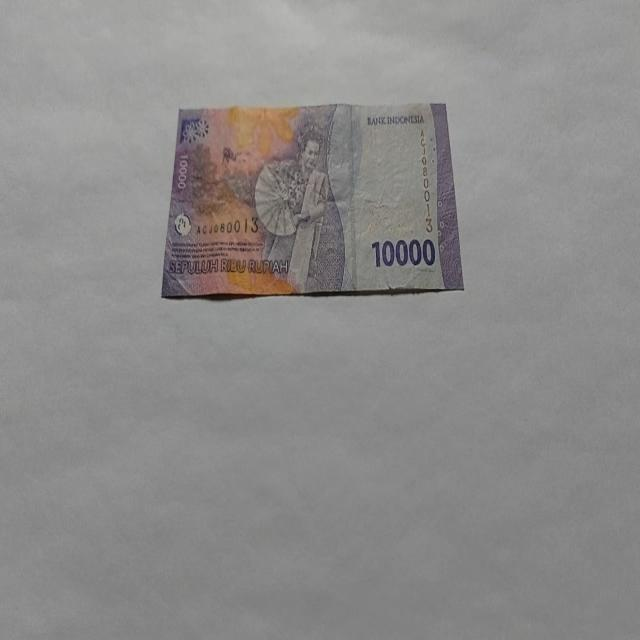sepuluh ribu rupiah: (160, 100, 464, 300)
